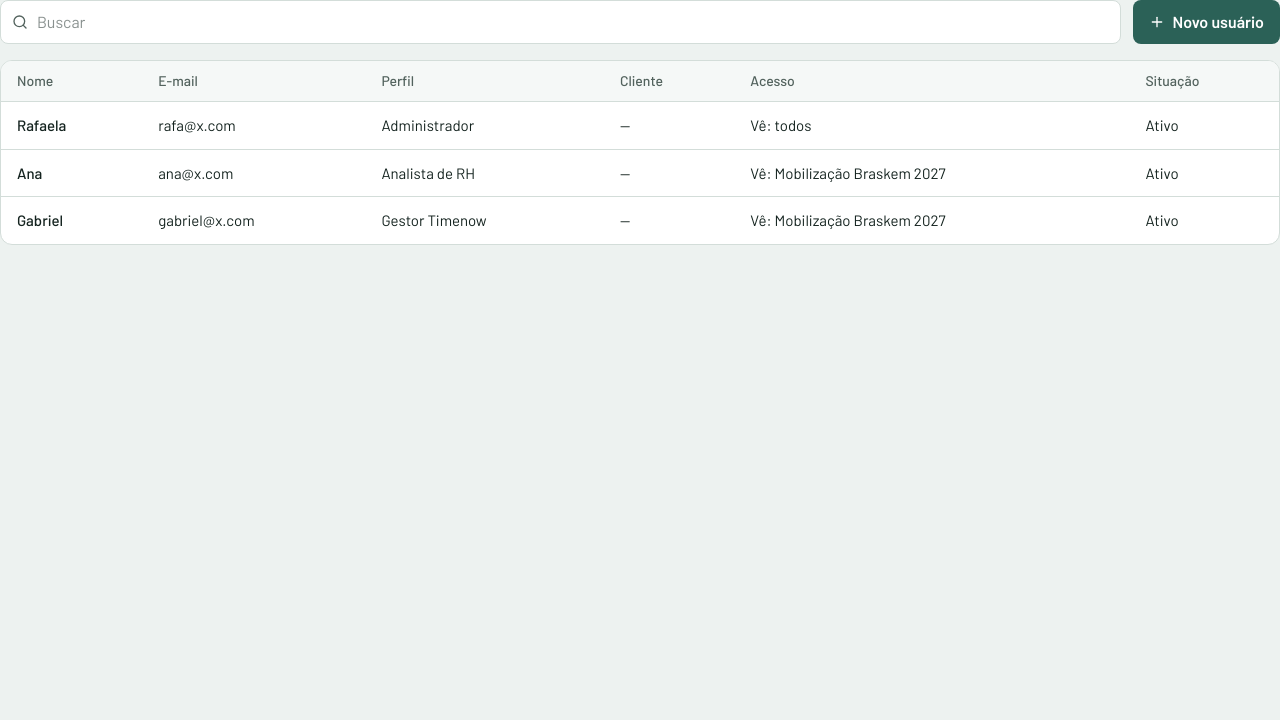
Scenario: o perfil Analista de RH existe e mostra as caixas de projetos
The width and height of the screenshot is (1280, 720).
Click the button "Ana" at (30, 173), box 17,162 -> 42,184
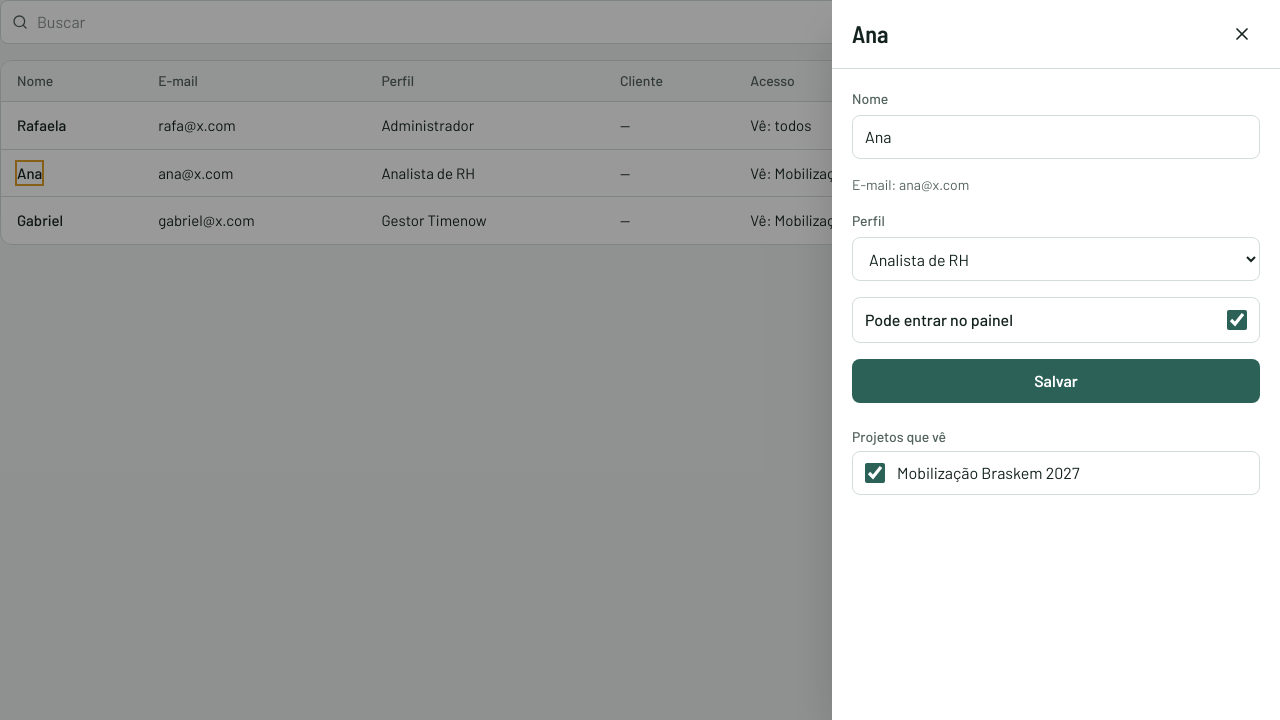
Now the dropdown labelled "Perfil" shows "Analista de RH", box 852,237 -> 1260,281
Now the checkbox labelled "Mobilização Braskem 2027" is checked, box 865,463 -> 885,483
